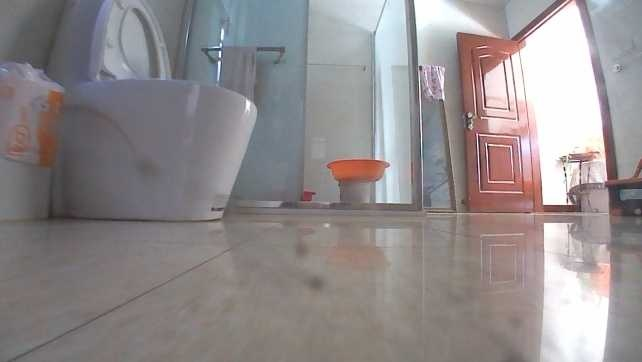door_anno: (455, 30, 545, 214)
toilet: (41, 0, 259, 223)
